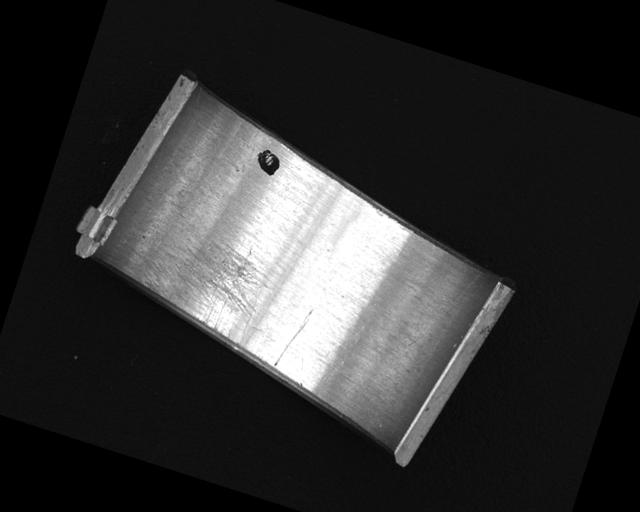blot: (252, 146, 284, 178)
nick: (405, 254, 482, 364), (273, 300, 316, 373)
scratch: (131, 220, 275, 350)
